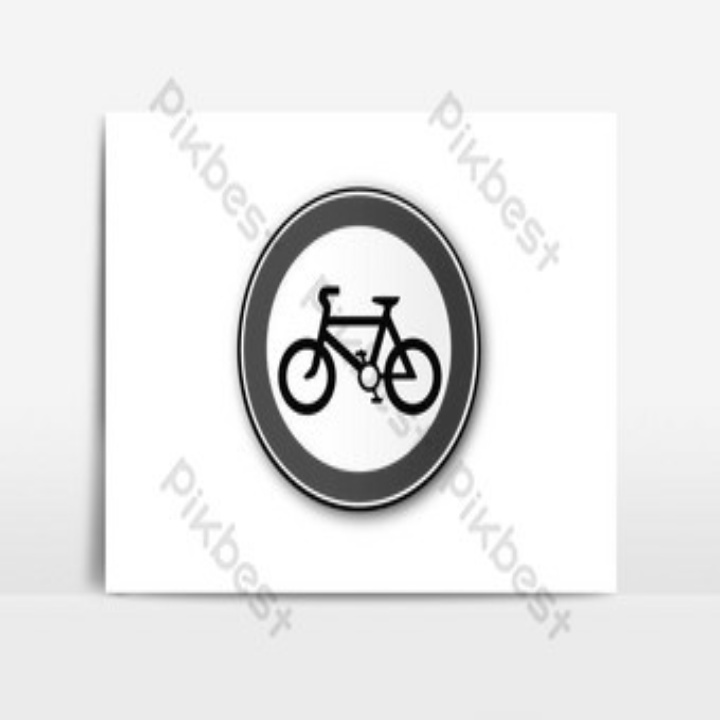bicycle: (275, 275, 459, 435)
